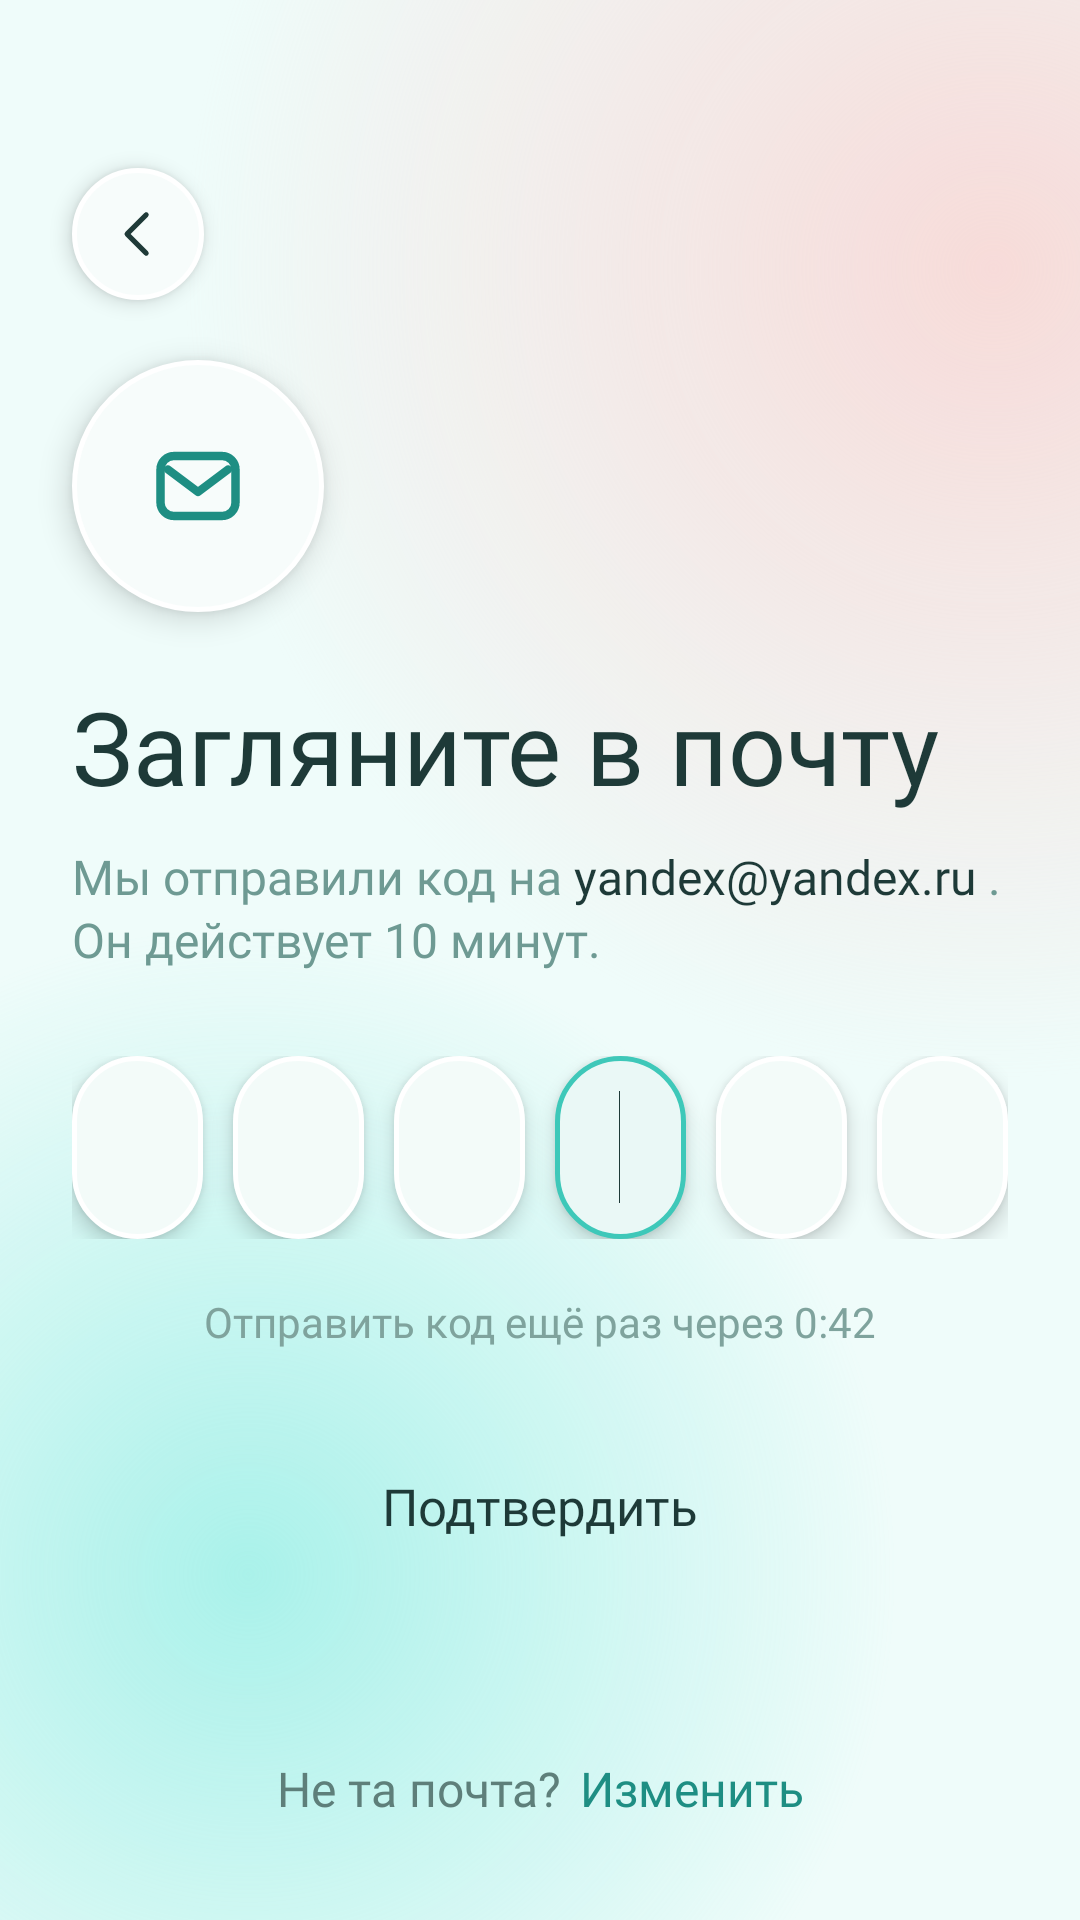

Where to tap for icons on this 1080px x 1920px app screen, as (x=x, y=y):
mail: (x=198, y=486)
Назад: (x=138, y=234)
